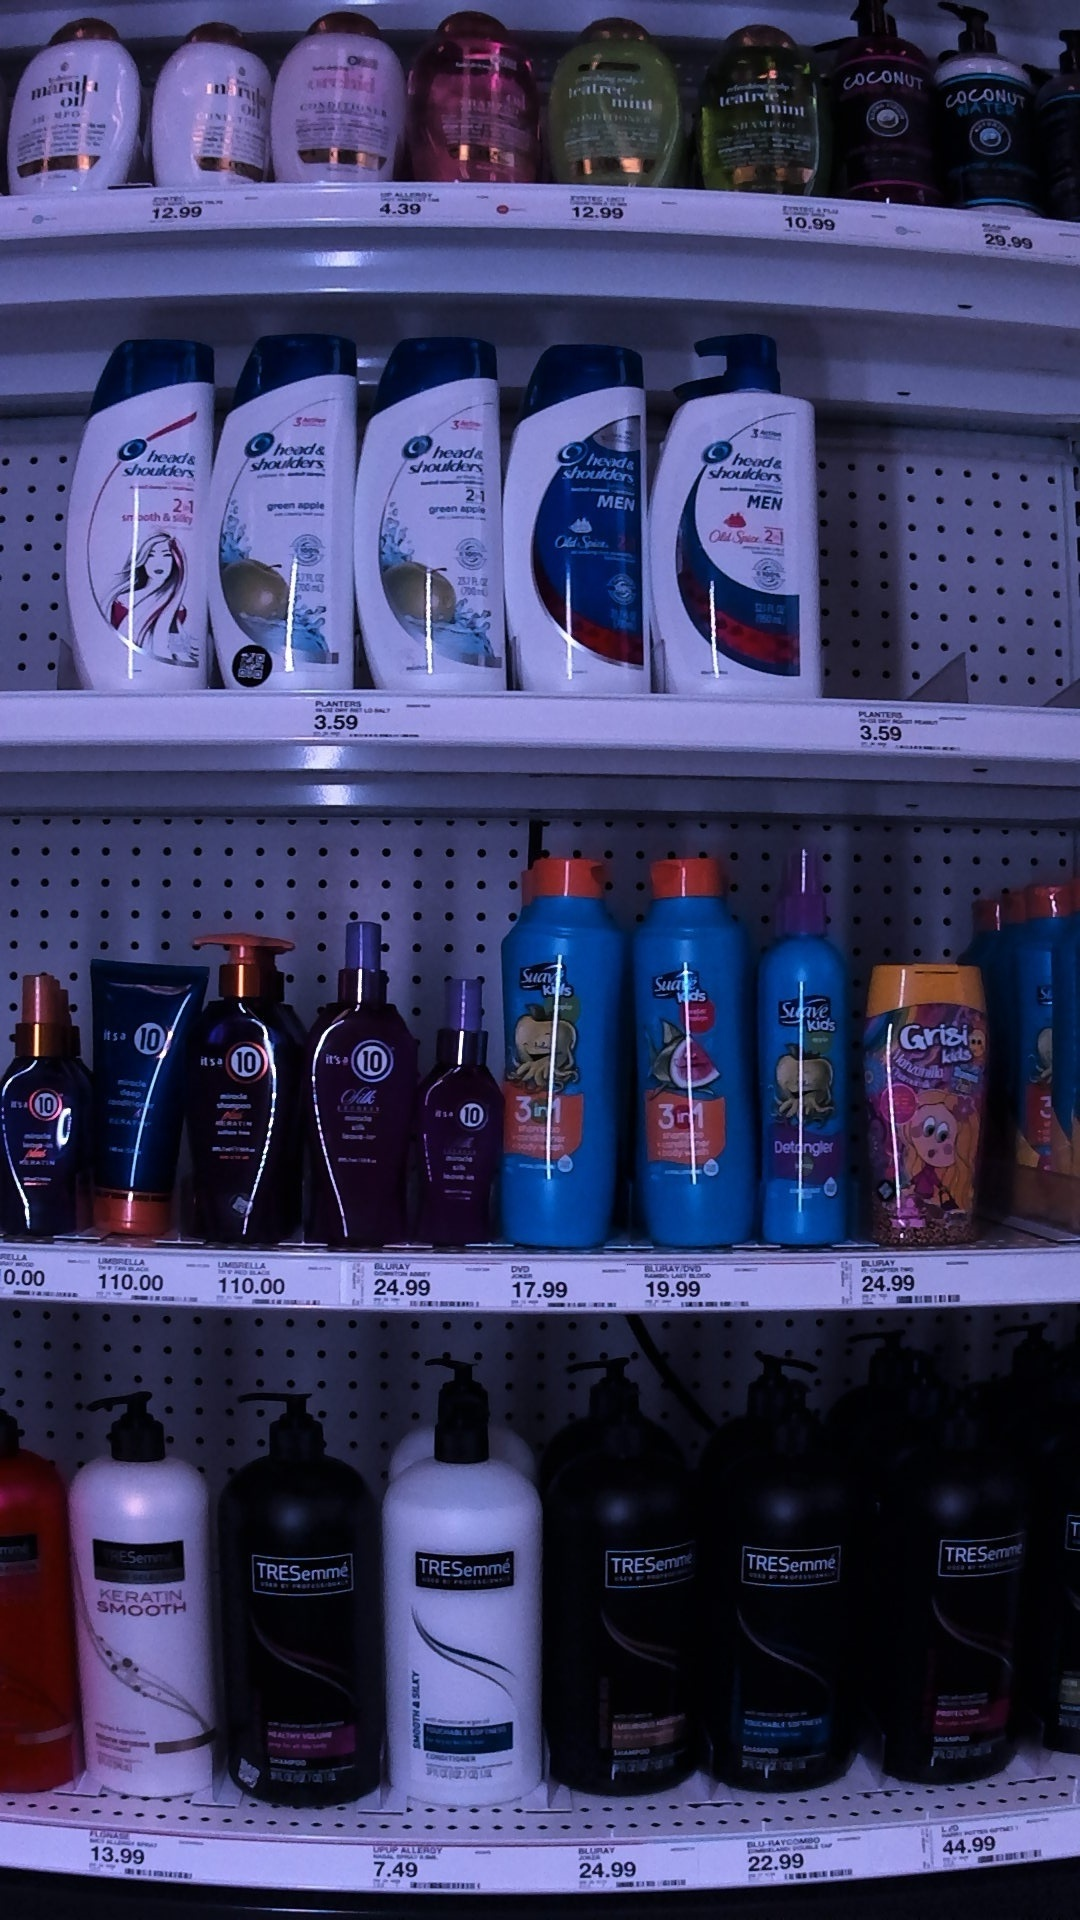ptag: (738, 1824, 876, 1898), (913, 1813, 1051, 1884), (305, 688, 440, 753), (364, 1253, 489, 1323), (840, 1246, 975, 1311), (367, 1833, 487, 1902), (632, 1253, 764, 1313), (568, 1832, 688, 1898), (849, 702, 980, 760), (220, 1255, 338, 1317), (84, 1826, 193, 1888), (506, 1261, 609, 1320), (98, 1251, 195, 1305), (152, 185, 240, 237), (1, 1246, 84, 1302), (373, 171, 448, 229), (969, 211, 1044, 266), (775, 196, 853, 249), (571, 182, 640, 240)
